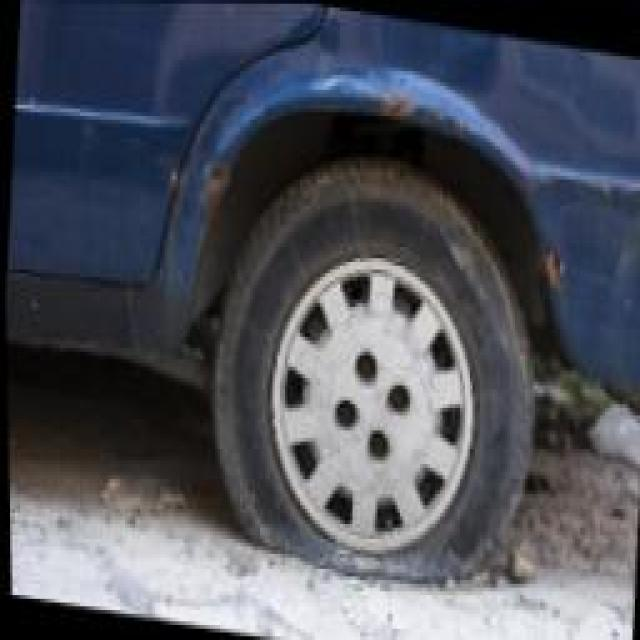Door: (7, 36, 187, 268)
Fender: (158, 56, 640, 409)
